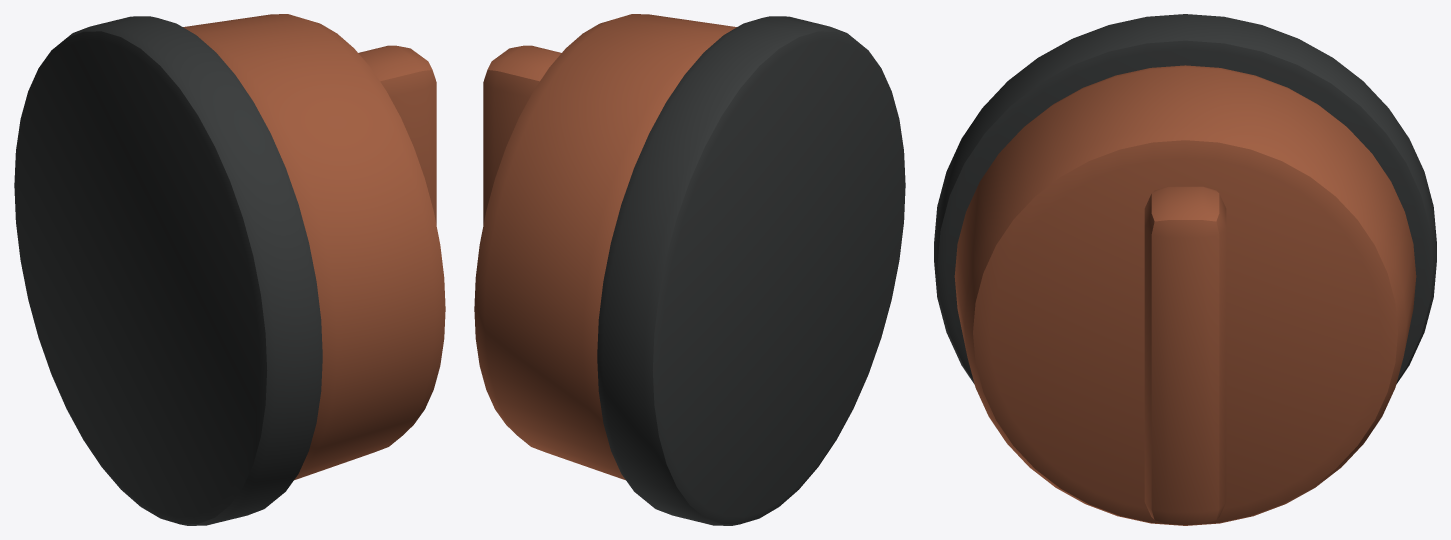
Rendered from kitchen_machine_speed_dial.glb.
3 renders of one model, left to right at view 1: azimuth 30°, elevation 25°; view 2: azimuth 150°, elevation 25°; view 3: azimuth 270°, elevation 25°, orthographic.
Parts seen in each view (by area): view 1: kitchen_machine_speed_dial_x; view 2: kitchen_machine_speed_dial_x; view 3: kitchen_machine_speed_dial_x.
Part boxes in pixels (x1,y1,x2,y2): kitchen_machine_speed_dial_x: (14,14,445,525); kitchen_machine_speed_dial_x: (474,14,905,525); kitchen_machine_speed_dial_x: (934,14,1436,525).
Size of the model in its own units: 0.028 by 0.0432 by 0.0432.
